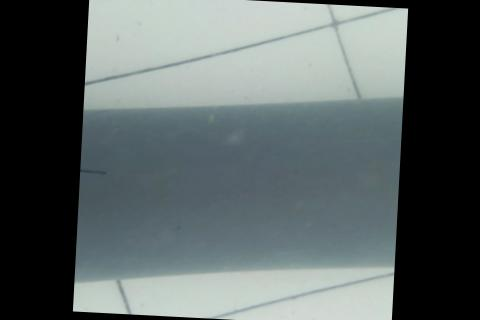keretakan: (79, 163, 109, 176)
